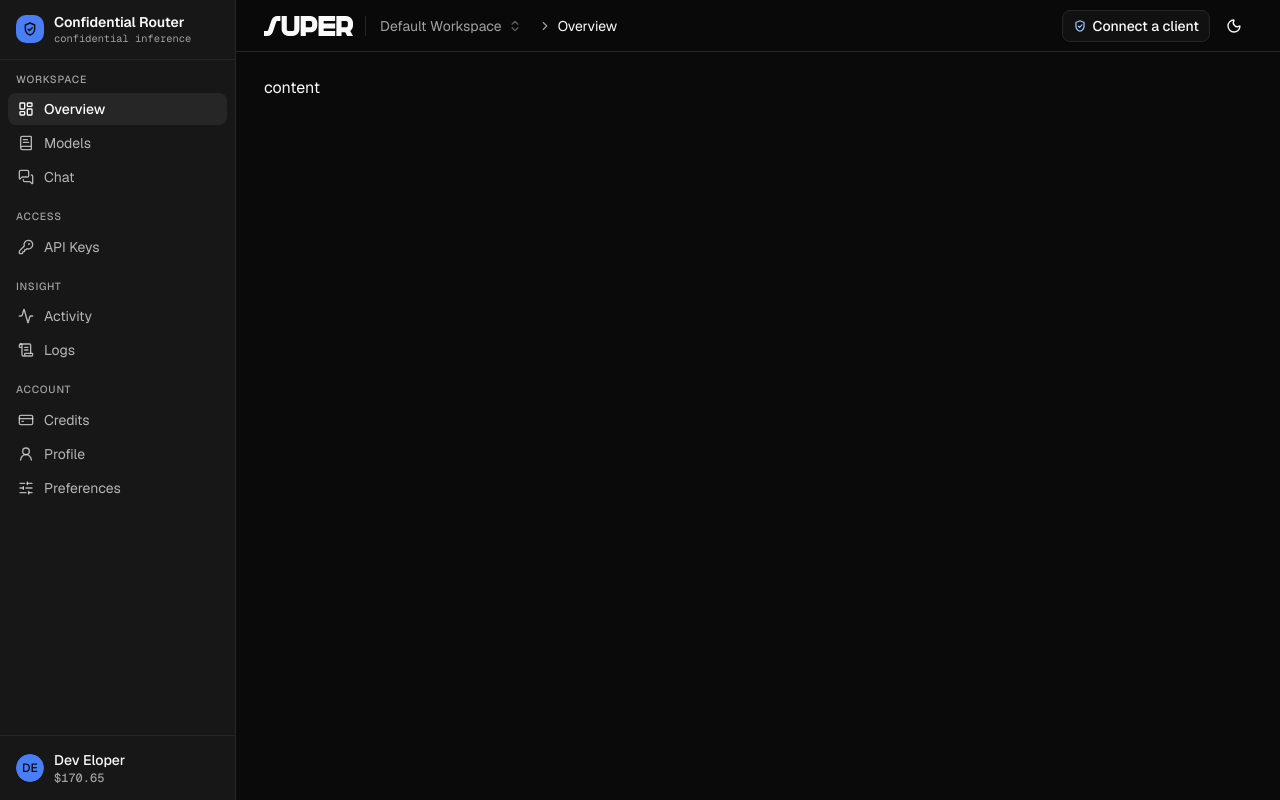
it: AppShell › switches the active workspace
Click the button with aria-label "Workspace: Default Workspace" at {"x": 451, "y": 26}, box [370,10,532,42]
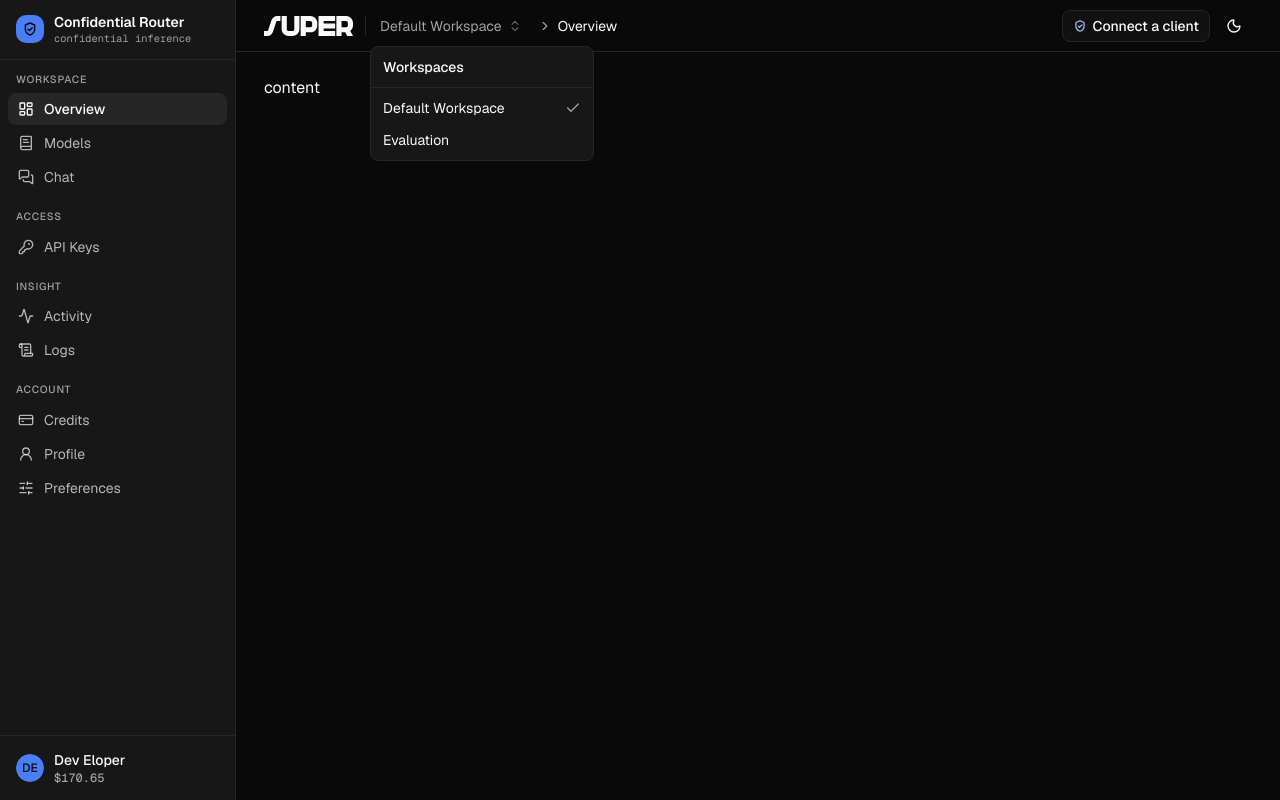
Click the menu item "Evaluation" at {"x": 416, "y": 140}, box [383,131,449,149]
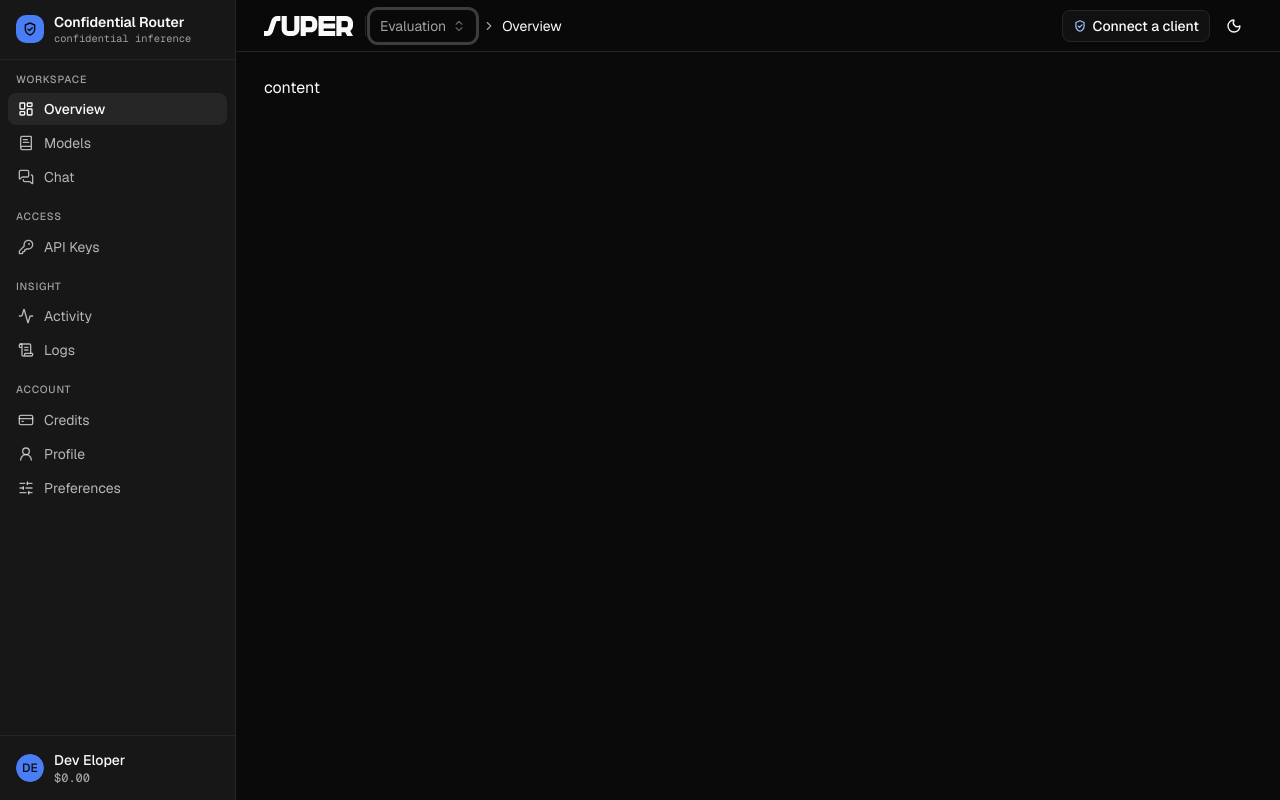
Expected: the button with aria-label "Workspace: Evaluation" is shown, [370,10,476,42]
